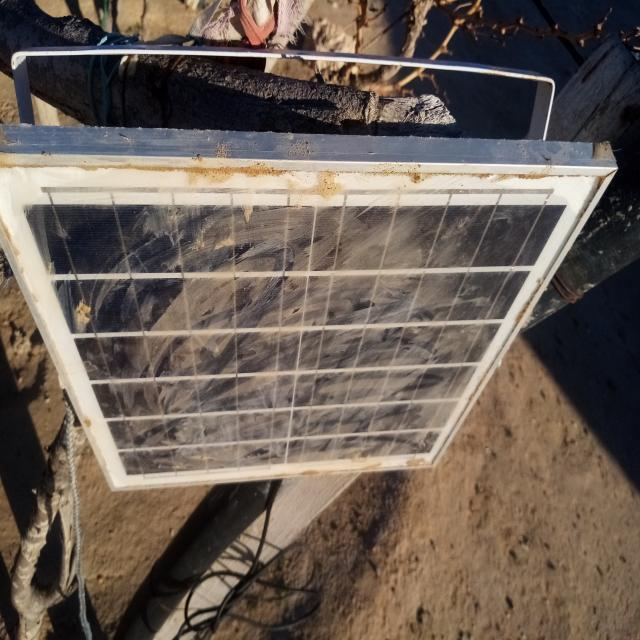faulty: (0, 160, 614, 492)
